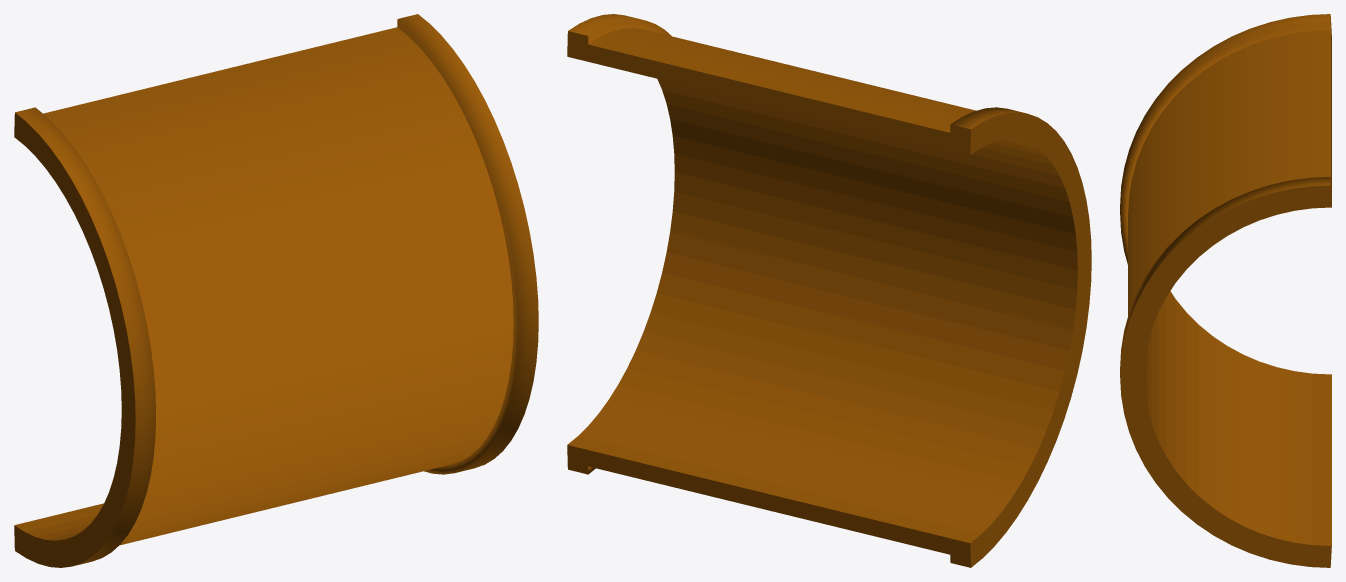
The model's file is pipe_4.glb.
3 views of the same model, side by side, from view 1: azimuth 30°, elevation 25°; view 2: azimuth 150°, elevation 25°; view 3: azimuth 270°, elevation 25° (orthographic). The views are drawn at different scales.
Visible parts, largest first — view 1: Cylinder.008; view 2: Cylinder.008; view 3: Cylinder.008.
Part boxes in pixels (x1,y1,x2,y2): Cylinder.008: (14, 14, 538, 567); Cylinder.008: (567, 14, 1091, 567); Cylinder.008: (1120, 14, 1331, 567).
Size of the model in its own units: 2 by 2.08 by 1.04.
